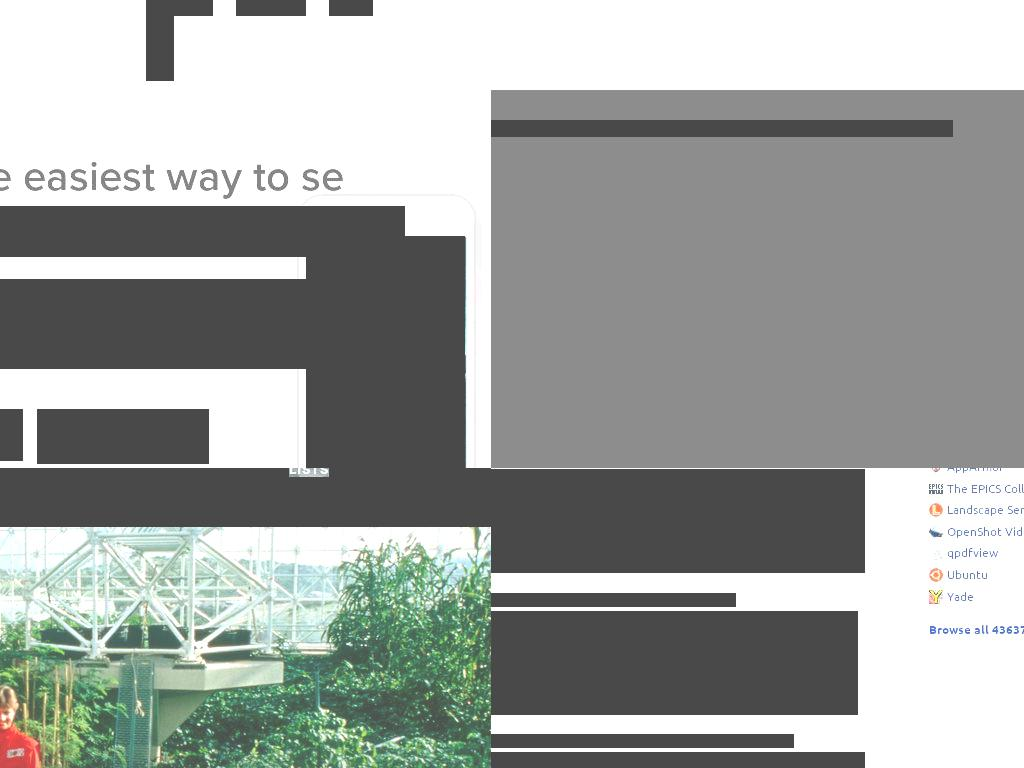button: (37, 409, 209, 464), (928, 475, 1024, 501), (928, 497, 1024, 523), (928, 518, 1024, 544), (146, 16, 174, 81), (928, 540, 998, 566), (928, 561, 988, 587), (78, 468, 215, 477), (928, 583, 974, 609), (236, 0, 306, 16), (146, 0, 213, 16), (928, 468, 1004, 479), (329, 0, 373, 16), (7, 468, 63, 477), (344, 468, 400, 477), (230, 468, 274, 477), (289, 468, 329, 477)
field: (415, 468, 491, 483)
heading: (0, 279, 373, 369), (0, 206, 405, 257), (0, 151, 364, 202)
image: (0, 468, 491, 527)
link: (491, 734, 714, 748), (491, 593, 655, 607), (928, 623, 1024, 637)
text: (491, 469, 865, 573), (491, 611, 858, 715), (306, 236, 465, 468), (491, 120, 953, 137), (491, 752, 865, 768), (78, 468, 215, 477), (654, 593, 736, 607), (713, 734, 794, 748), (7, 468, 63, 477), (344, 468, 400, 477), (230, 468, 274, 477), (289, 468, 329, 477), (371, 218, 402, 222)
